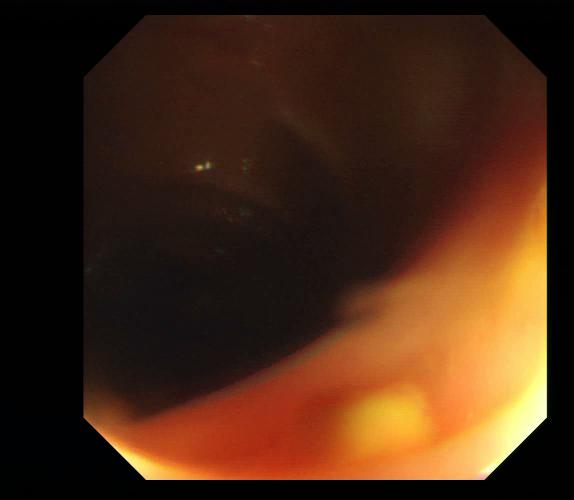polyp: (320, 388, 432, 464)
